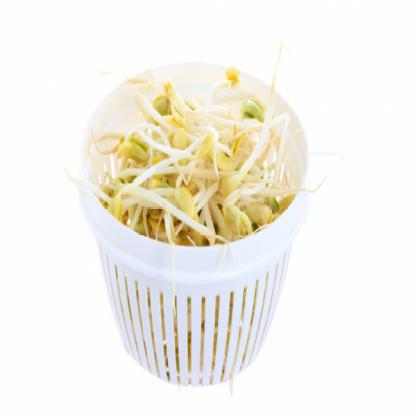bean sprouts: (112, 82, 290, 239)
